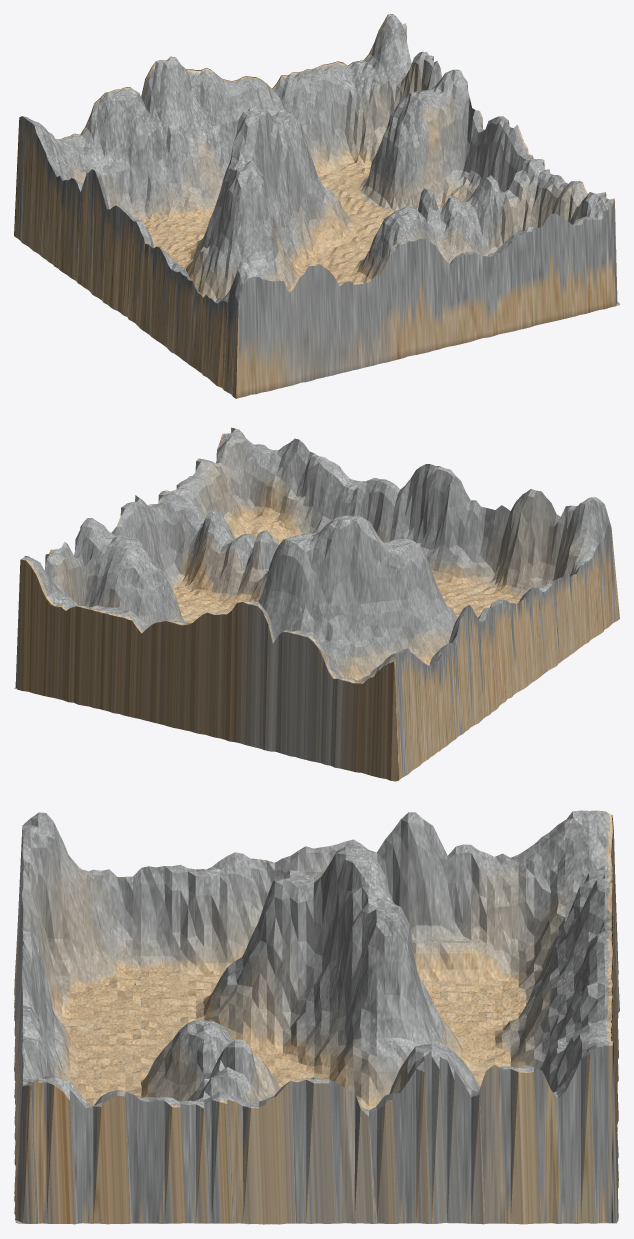
Rendered from WastelandMap.fbx.
3 views of the same model, one above another, from view 1: azimuth 30°, elevation 25°; view 2: azimuth 150°, elevation 25°; view 3: azimuth 270°, elevation 25° (orthographic). The views are drawn at different scales.
Visible parts, largest first — view 1: Plane; view 2: Plane; view 3: Plane.
Boxes of the visible parts, bbox=[...] form: Plane: bbox=[14, 14, 619, 398]; Plane: bbox=[14, 427, 619, 781]; Plane: bbox=[14, 810, 619, 1224].
Bounding box in the file's own units: 15124 × 15208 × 5959.
Materials: 1 (1 with a texture image).
